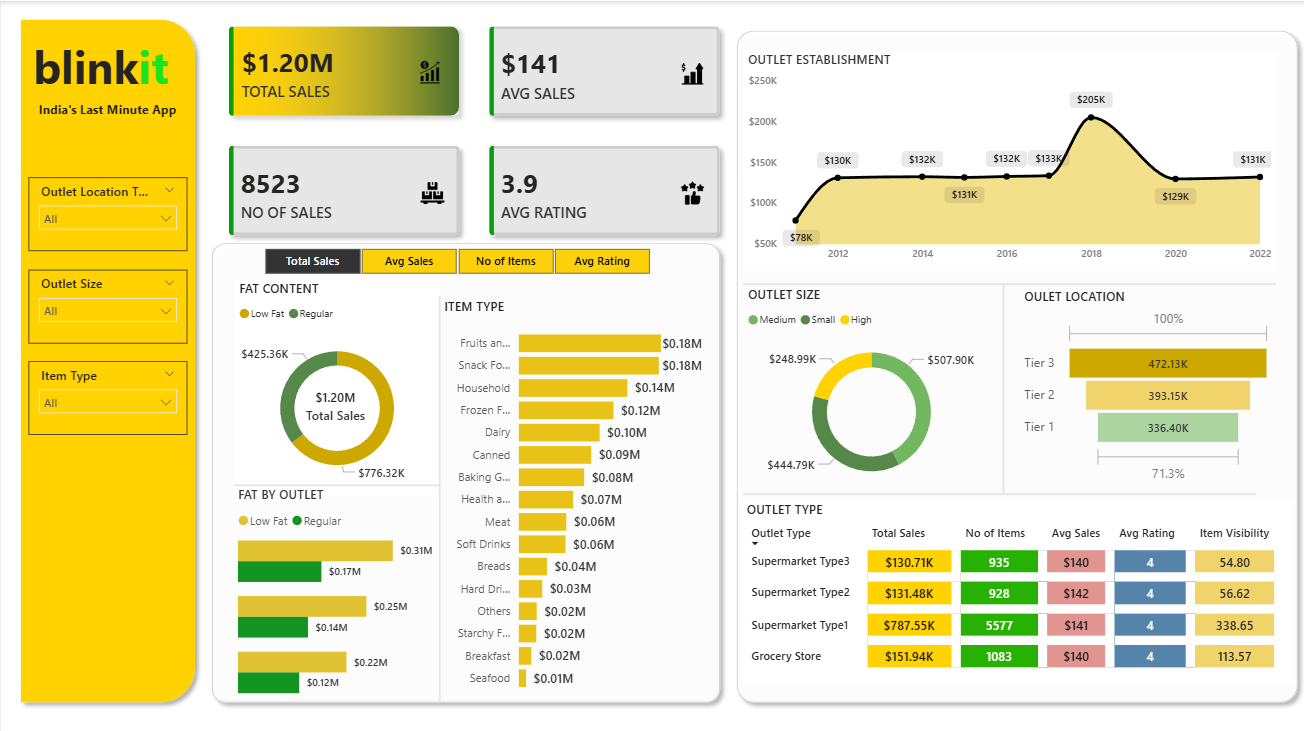

This screenshot's page, from the dashboard's own definition file:
{"tool":"powerbi","page":{"name":"Page 1","canvas":[1400,800],"ordinal":0},"visuals":[{"type":"shape","box":[12.1,10.7,205.1,750.7],"z":0},{"type":"textbox","box":[30,31.5,169.6,100.6],"z":1000},{"type":"textbox","box":[30,102.1,169.6,30],"z":2000},{"type":"cardVisual","fields":{"Data":["BlinkIT Grocery Data.Total Sales","BlinkIT Grocery Data.Avg Sales","BlinkIT Grocery Data.No of Items","BlinkIT Grocery Data.Avg Rating"]},"box":[217.2,0,580.4,278.8],"z":3000},{"type":"shape","box":[217.2,250.7,563,510.7],"z":4000},{"type":"donutChart","title":"FAT CONTENT","fields":{"Y":["BlinkIT Grocery Data.Total Sales"],"Category":["BlinkIT Grocery Data.Item Fat Content"]},"box":[250.7,298.9,219.8,230.6],"z":5000},{"type":"slicer","fields":{"Values":["Metrics.Metrics"]},"box":[257.4,258.7,462.5,40.2],"z":6000},{"type":"cardVisual","fields":{"Data":["BlinkIT Grocery Data.Total Sales"]},"box":[286.9,387.4,144.8,93.8],"z":7000},{"type":"clusteredBarChart","title":"FAT BY OUTLET","fields":{"Y":["BlinkIT Grocery Data.Total Sales"],"Category":["BlinkIT Grocery Data.Outlet Location Type"],"Series":["BlinkIT Grocery Data.Item Fat Content"]},"box":[249.3,520.1,219.8,230.6],"z":8000},{"type":"shape","box":[250.7,504,221.2,30.8],"z":9000},{"type":"shape","box":[453.1,316.4,34.9,434.3],"z":10000},{"type":"barChart","title":"ITEM TYPE","fields":{"Y":["BlinkIT Grocery Data.Total Sales"],"Category":["BlinkIT Grocery Data.Item Type"]},"box":[470.5,317.7,286.9,433],"z":11000},{"type":"shape","box":[780.2,22.8,619.3,738.6],"z":12000},{"type":"lineChart","title":"OUTLET ESTABLISHMENT","fields":{"Y":["BlinkIT Grocery Data.Total Sales"],"Category":["BlinkIT Grocery Data.Outlet Establishment Year"]},"box":[796.3,53.6,571,234.6],"z":13000},{"type":"shape","box":[796.3,288.2,571,30.8],"z":14000},{"type":"donutChart","title":"OUTLET SIZE","fields":{"Y":["BlinkIT Grocery Data.Total Sales"],"Category":["BlinkIT Grocery Data.Outlet Size"]},"box":[796.3,305.6,274.8,225.2],"z":15000},{"type":"shape","box":[1057.6,304.3,34.9,225.2],"z":16000},{"type":"funnel","title":"OULET LOCATION","fields":{"Category":["BlinkIT Grocery Data.Outlet Location Type"],"Y":["Sum(BlinkIT Grocery Data.Sales)"]},"box":[1092.5,307,274.8,214.5],"z":17000},{"type":"shape","box":[796.3,513.4,549.6,30.8],"z":18000},{"type":"pivotTable","title":"OUTLET TYPE","fields":{"Rows":["BlinkIT Grocery Data.Outlet Type"],"Values":["BlinkIT Grocery Data.Total Sales","BlinkIT Grocery Data.No of Items","BlinkIT Grocery Data.Avg Sales","BlinkIT Grocery Data.Avg Rating","Sum(BlinkIT Grocery Data.Item Visibility)"]},"box":[794.9,536.2,589.8,197.1],"z":19000},{"type":"slicer","fields":{"Values":["BlinkIT Grocery Data.Outlet Location Type"]},"box":[29.5,189,170.2,79.1],"z":20000},{"type":"slicer","fields":{"Values":["BlinkIT Grocery Data.Outlet Size"]},"box":[29.5,288.2,170.2,79.1],"z":21000},{"type":"slicer","fields":{"Values":["BlinkIT Grocery Data.Item Type"]},"box":[29.5,386.1,170.2,79.1],"z":22000}]}

Visuals, with their boxes in screenshot pixels (x1, y1, x2, y2), scaled from the page's 1400x800 canvas onto the 1304x731 screenshot:
shape: [11,10,202,696]
textbox: [28,29,186,121]
textbox: [28,93,186,121]
cardVisual - BlinkIT Grocery Data.Total Sales x BlinkIT Grocery Data.Avg Sales: [202,0,743,255]
shape: [202,229,727,696]
"FAT CONTENT" donutChart: [234,273,438,484]
slicer - Metrics.Metrics: [240,236,671,273]
cardVisual - BlinkIT Grocery Data.Total Sales: [267,354,402,440]
"FAT BY OUTLET" clusteredBarChart: [232,475,437,686]
shape: [234,461,440,489]
shape: [422,289,455,686]
"ITEM TYPE" barChart: [438,290,705,686]
shape: [727,21,1303,696]
"OUTLET ESTABLISHMENT" lineChart: [742,49,1274,263]
shape: [742,263,1274,291]
"OUTLET SIZE" donutChart: [742,279,998,485]
shape: [985,278,1018,484]
"OULET LOCATION" funnel: [1018,281,1274,477]
shape: [742,469,1254,497]
"OUTLET TYPE" pivotTable: [740,490,1290,670]
slicer - BlinkIT Grocery Data.Outlet Location Type: [27,173,186,245]
slicer - BlinkIT Grocery Data.Outlet Size: [27,263,186,336]
slicer - BlinkIT Grocery Data.Item Type: [27,353,186,425]
